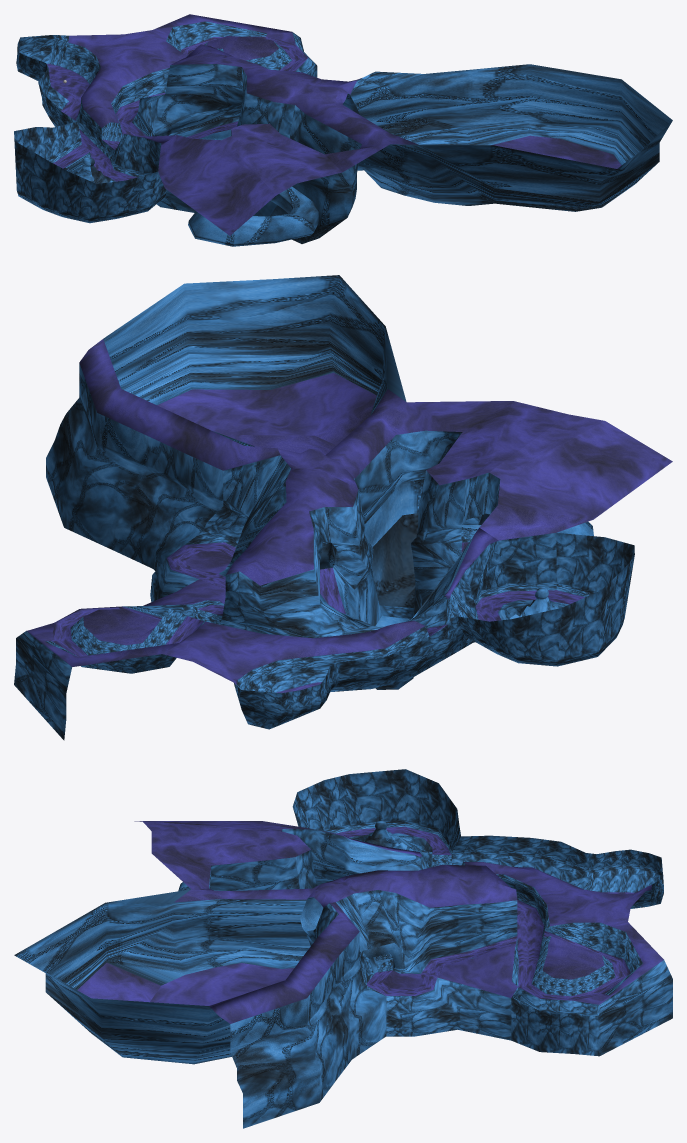
The model's file is sappireSandsTrack.fbx.
3 views of the same model, one above another, from view 1: azimuth 30°, elevation 25°; view 2: azimuth 150°, elevation 25°; view 3: azimuth 270°, elevation 25° (orthographic). The views are drawn at different scales.
Visible parts, largest first — view 1: sapphireSandsTextured; view 2: sapphireSandsTextured; view 3: sapphireSandsTextured.
Boxes of the visible parts, x1,y1,x2,y2 form: sapphireSandsTextured: (14, 14, 672, 246); sapphireSandsTextured: (14, 275, 672, 740); sapphireSandsTextured: (14, 769, 672, 1128).
Bounding box in the file's own units: 175 × 42.92 × 187.
